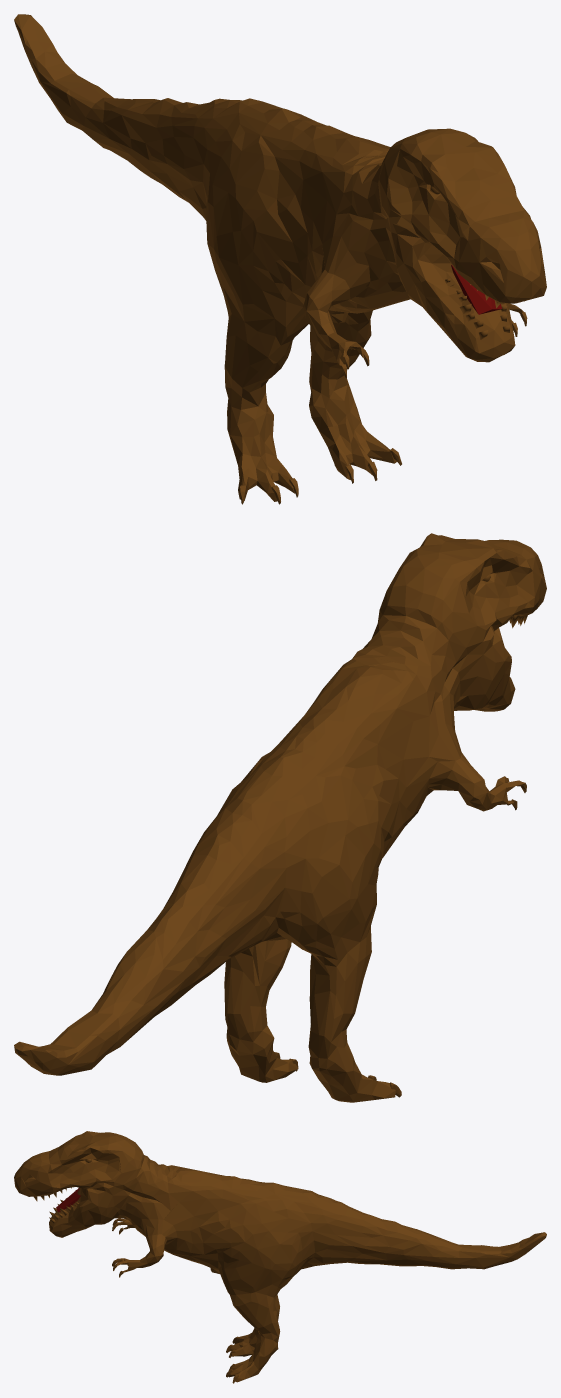
Rendered from T-Rex.fbx.
The picture shows the model from 3 angles, top to bottom: view 1: azimuth 30°, elevation 25°; view 2: azimuth 150°, elevation 25°; view 3: azimuth 270°, elevation 25°; orthographic projection. The views are drawn at different scales.
Visible parts, largest first — view 1: mr t; view 2: mr t; view 3: mr t.
Boxes of the visible parts, box(x1,y1,x2,y2) form: mr t: box(14, 14, 546, 504); mr t: box(14, 533, 546, 1102); mr t: box(14, 1131, 546, 1383).
Bounding box in the file's own units: 994 × 2298 × 4850.
